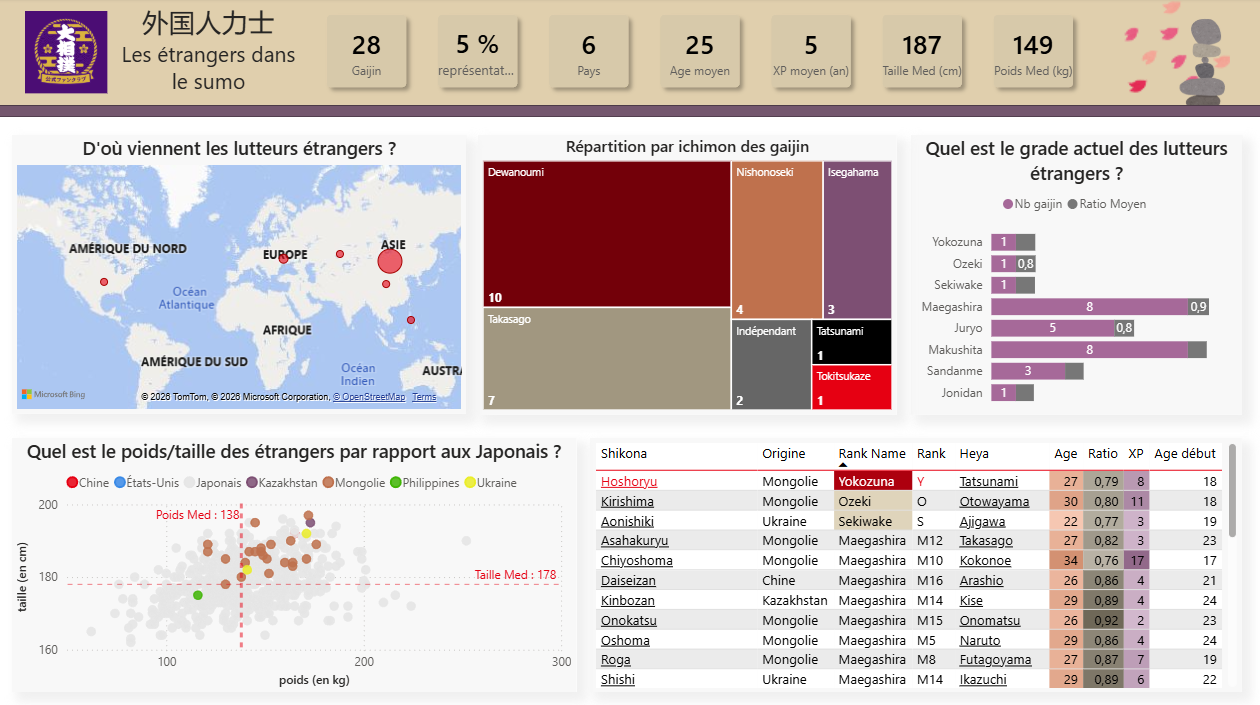

The dashboard page shown, as its layout file describes it:
{"tool":"powerbi","page":{"name":"Gaijin","canvas":[1280,720],"ordinal":1},"visuals":[{"type":"shape","box":[0,0,1280,109.4],"z":0,"group":"g1"},{"type":"image","box":[1096.6,0,183.4,108.9],"z":0,"group":"g2"},{"type":"image","box":[28.6,12.9,82.9,82.9],"z":0},{"type":"shape","box":[0,107.6,1280,12.1],"z":0,"group":"g3"},{"type":"group","id":"g1","title":"Groupe 1","box":[0,0,1280,108.9],"z":1000},{"type":"image","box":[28.6,13,82.9,83.7],"z":1000,"group":"g1"},{"type":"image","box":[1170.2,20.2,95.7,88.7],"z":1000,"group":"g2"},{"type":"group","id":"g2","title":"logoUp","box":[1096.6,0,183.4,108.9],"z":2000},{"type":"group","id":"g3","title":"séparationDB","box":[0,107.6,1280,12.1],"z":4000},{"type":"map","title":"D''où viennent les lutteurs étrangers ?","fields":{"X":["Dim_Region.longitude"],"Y":["Dim_Region.latitude"],"Size":["_Mesures.Nb gaijin"]},"box":[15,138.5,457.8,281.4],"z":5000},{"type":"barChart","title":"Quel est le grade actuel des lutteurs étrangers ?","fields":{"Category":["Dim_Rank.Rank Name","Dim_Rank.DivisionName","Dim_Rank.SpecialRankName"],"Y":["_Mesures.Nb gaijin","_Mesures.Ratio Moyen"]},"box":[921.2,138.1,333.6,282.2],"z":6000},{"type":"scatterChart","title":"Quel est le poids/taille des étrangers par rapport aux Japonais ?","fields":{"Series":["Fact_Rikishi.Groupe"],"X":["Fact_Rikishi.weight"],"Y":["Fact_Rikishi.height"]},"box":[14.8,443.8,568.5,256.3],"z":7000},{"type":"tableEx","fields":{"Values":["Fact_Rikishi.shikonaEn","Dim_Region.pays","Dim_Rank.Rank Name","Dim_Rank.Rank","Dim_Heya.Heya","_Mesures.Age moyen","_Mesures.ratio","_Mesures.XP moyen Gaijin","_Mesures.Age Debut"]},"box":[598.1,443.8,656.6,256.3],"z":8000},{"type":"shape","box":[406.7,33.5,690.7,74.1],"z":9000},{"type":"cardVisual","fields":{"Data":["_Mesures.Nb gaijin","_Mesures.% gaijin","_Mesures.Nb de pays","_Mesures.Age moyen","_Mesures.XP moyen Gaijin","_Mesures.Taille Med Gaijin","_Mesures.Poids Med Gaijin"]},"box":[388.2,30.6,699.8,88.9],"z":10000},{"type":"textbox","box":[111.2,13.2,295.5,82.9],"z":11000},{"type":"treemap","title":"Répartition par ichimon des gaijin","fields":{"Values":["_Mesures.Nb gaijin"],"Group":["Dim_Heya.HeyaIchimon"]},"box":[484.8,138.1,422.3,282.2],"z":12000}]}

Visuals, with their boxes in screenshot pixels (x1, y1, x2, y2), scaled from the page's 1280x720 canvas onto the 1260x705 screenshot:
shape: select_region(0, 0, 1259, 107)
image: select_region(1079, 0, 1259, 107)
image: select_region(28, 13, 110, 94)
shape: select_region(0, 105, 1259, 117)
"Groupe 1" group: select_region(0, 0, 1259, 107)
image: select_region(28, 13, 110, 95)
image: select_region(1152, 20, 1246, 107)
"logoUp" group: select_region(1079, 0, 1259, 107)
"séparationDB" group: select_region(0, 105, 1259, 117)
"D''où viennent les lutteurs étrangers ?" map: select_region(15, 136, 465, 411)
"Quel est le grade actuel des lutteurs étrangers ?" barChart: select_region(907, 135, 1235, 412)
"Quel est le poids/taille des étrangers par rapport aux Japonais ?" scatterChart: select_region(15, 435, 574, 686)
tableEx - Fact_Rikishi.shikonaEn x Dim_Region.pays: select_region(589, 435, 1235, 686)
shape: select_region(400, 33, 1080, 105)
cardVisual - _Mesures.Nb gaijin x _Mesures.% gaijin: select_region(382, 30, 1071, 117)
textbox: select_region(109, 13, 400, 94)
"Répartition par ichimon des gaijin" treemap: select_region(477, 135, 893, 412)
